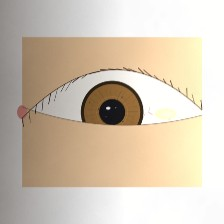pinguecula_lesion: (144, 97, 187, 131)
